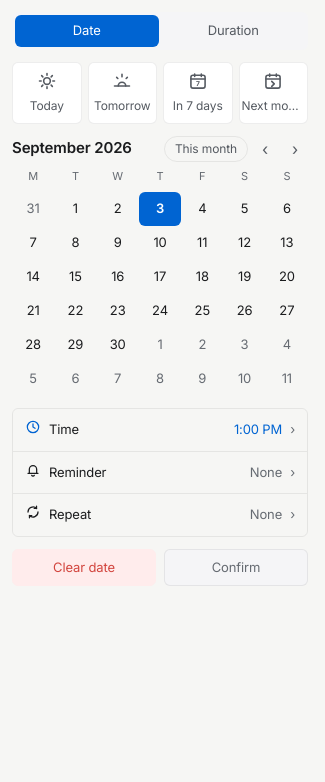
it: the clock fills an empty start, and only an empty one (§3.3) › leaves a time that is already there alone
Click the button "Time 1:00 PM ›".
click(258, 429)  # box [13,409,307,452]
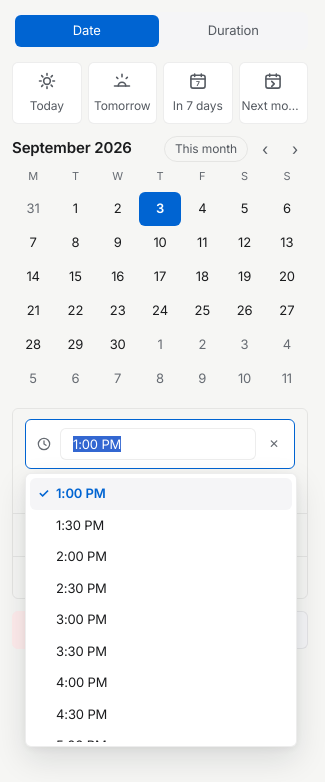
Expected: the dropdown named "Starts" holds "1:00 PM", [60,428,256,460]
